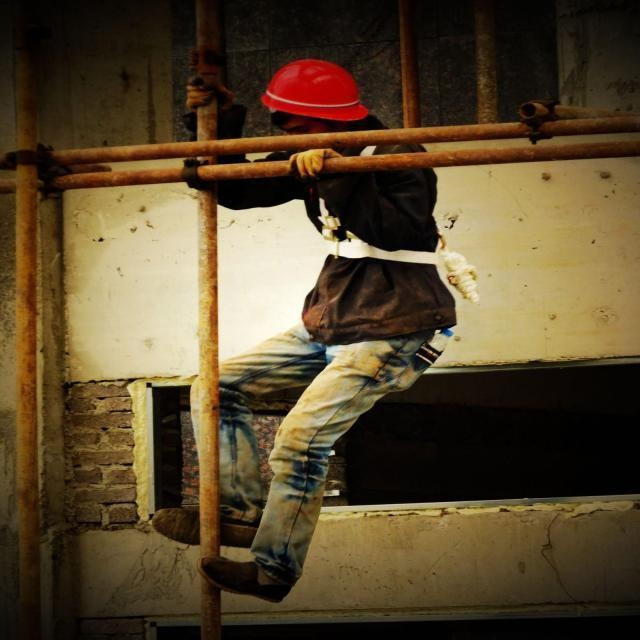Arnes_seguridad: (296, 141, 485, 307)
